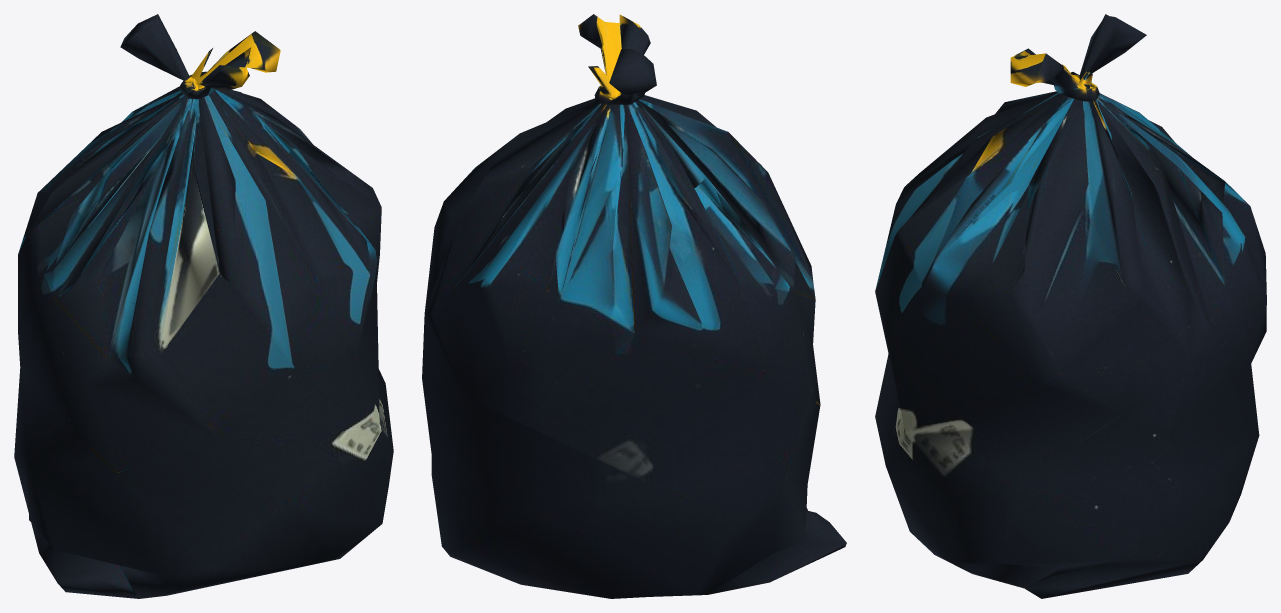
Rendered from trash_bag.glb.
The picture shows the model from 3 angles, left to right: view 1: azimuth 30°, elevation 25°; view 2: azimuth 150°, elevation 25°; view 3: azimuth 270°, elevation 25°; orthographic projection. The views are drawn at different scales.
Visible parts, largest first — view 1: Mesh_0; view 2: Mesh_0; view 3: Mesh_0.
Part boxes in pixels (<box>): Mesh_0: <box>14,14,393,598</box>; Mesh_0: <box>422,14,846,598</box>; Mesh_0: <box>875,14,1266,598</box>.
Bounding box in the file's own units: 0.5134 × 0.7 × 0.5023.
Materials: 1 (1 with a texture image).
